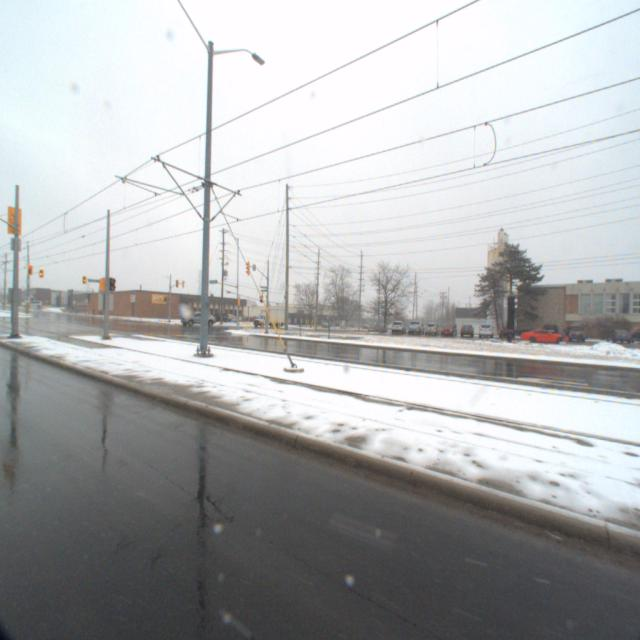Car: (516, 328, 568, 348), (404, 323, 422, 338)
Truck: (250, 311, 286, 332), (178, 314, 215, 330)
